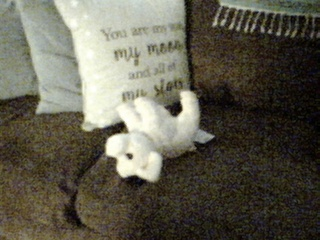piggy: (104, 88, 203, 185)
